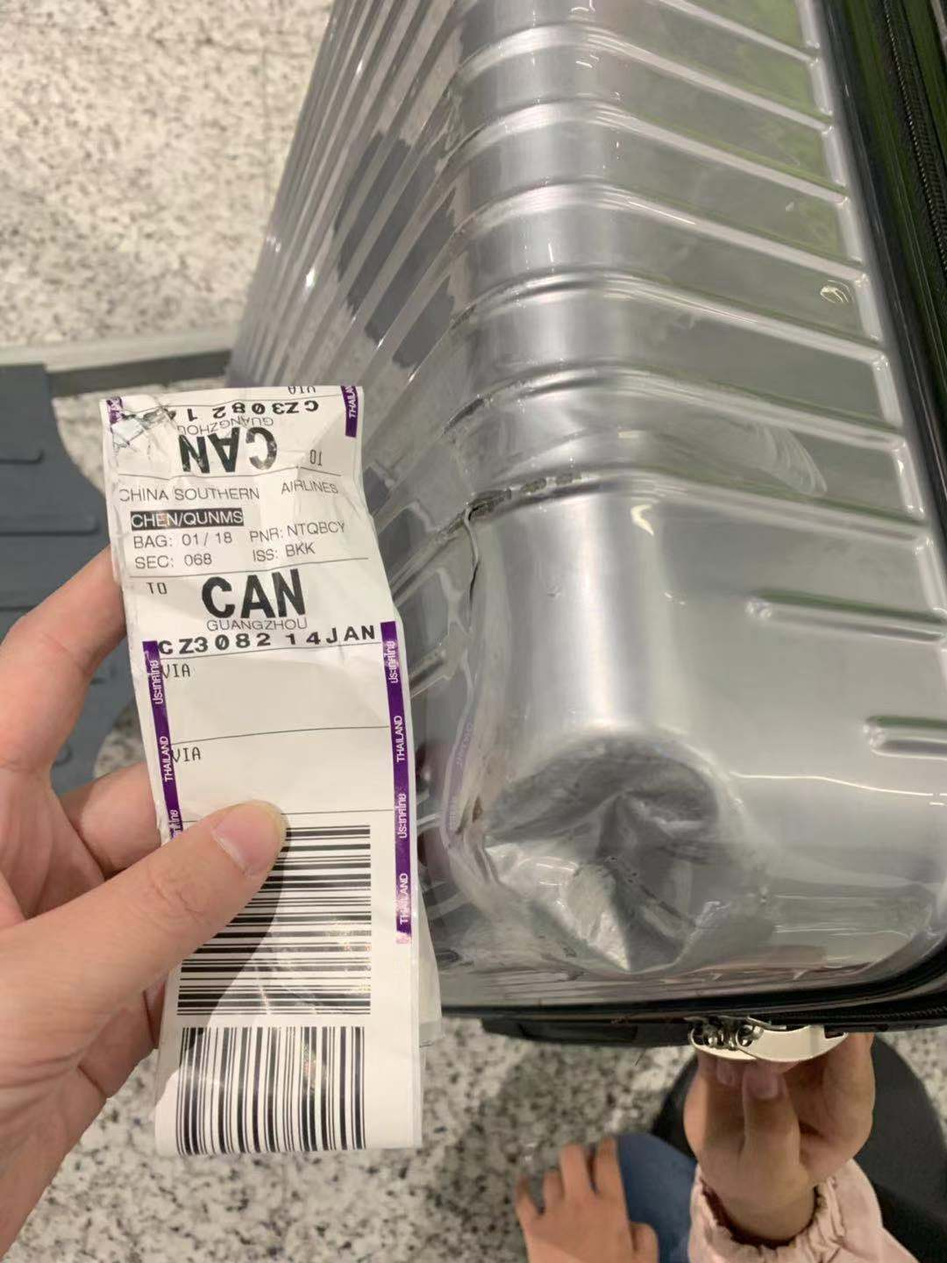rupture: (471, 725, 730, 978)
scratch: (462, 503, 481, 614)
